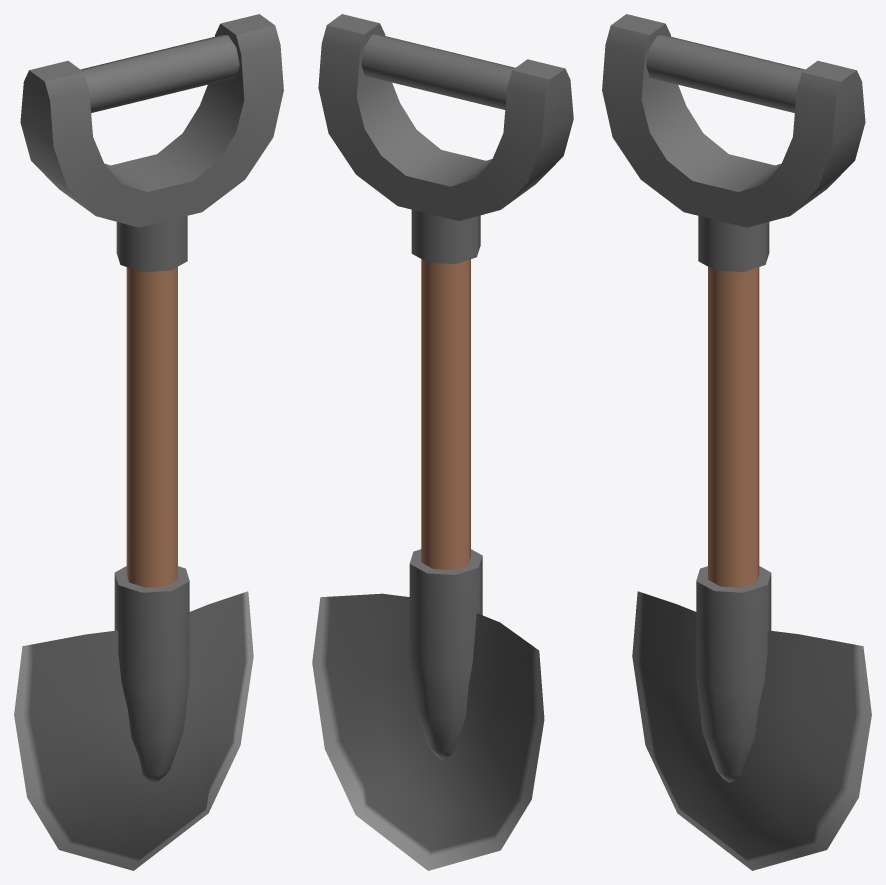
File: itemMilShovel.fbx
3 views of the same model, side by side, from view 1: azimuth 30°, elevation 25°; view 2: azimuth 150°, elevation 25°; view 3: azimuth 330°, elevation 25° (orthographic). The views are drawn at different scales.
Parts seen in each view (by area): view 1: itemMilShovel; view 2: itemMilShovel; view 3: itemMilShovel.
Boxes of the visible parts, left/top/right/bottom form: itemMilShovel: left=14, top=14, right=283, bottom=870; itemMilShovel: left=312, top=14, right=573, bottom=870; itemMilShovel: left=602, top=14, right=871, bottom=870.
Bounding box in the file's own units: 26.93 × 89.84 × 7.58.
